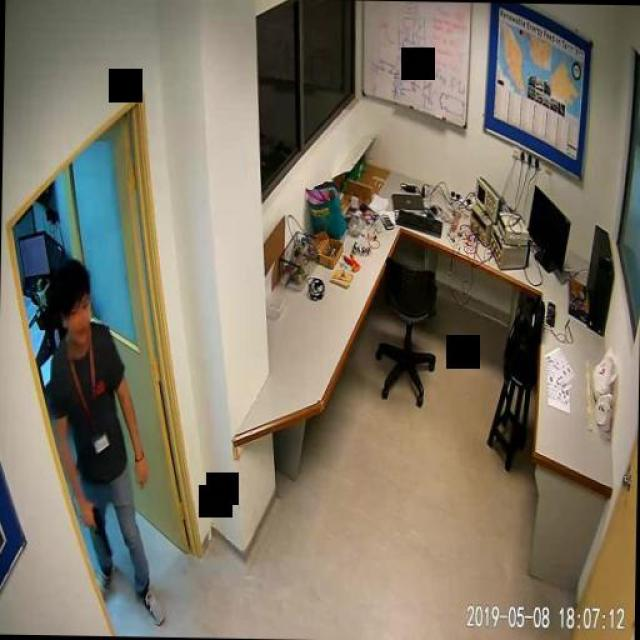gun: (88, 507, 112, 558)
